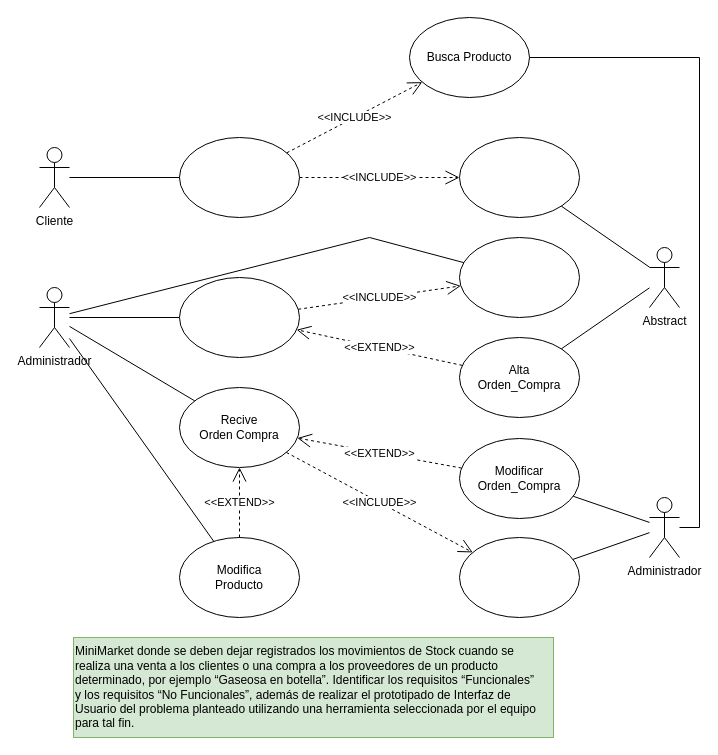
This 718x755 diagram has some shape labels left out. The shapes that lost their labels are listed below. From the top down, each one's centre as x and y in pixels, then its label:
At point 239,177: "Compra Producto".
At point 519,177: "Alta Registro Orden_Venta".
At point 519,277: "Buscar Proveedor".
At point 239,317: "Genera Orden Compra Proveedor".
At point 519,577: "Buscar Orden_Compra".
